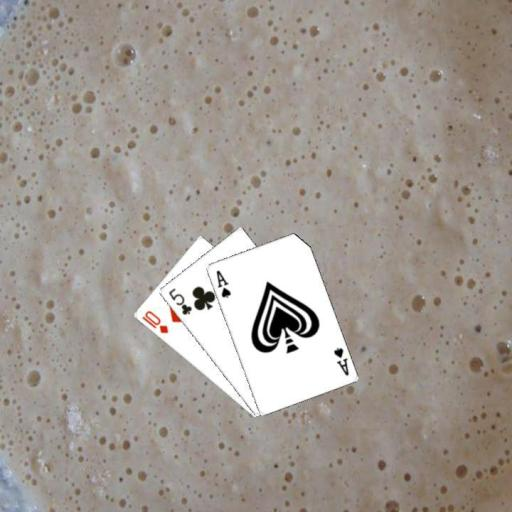10D: (139, 307, 169, 335)
5C: (165, 285, 193, 317)
AS: (330, 344, 350, 377), (213, 267, 232, 299)
